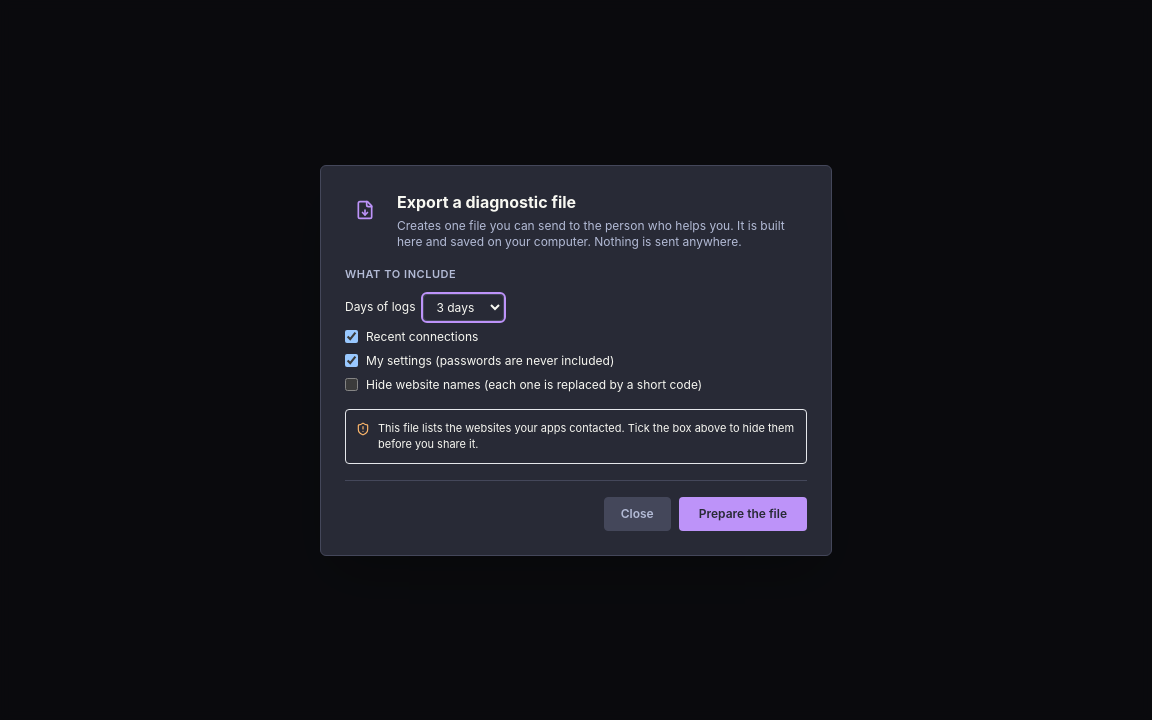
Test: DiagnosticExportModal › warns about visited sites, then shows the manifest with sizes before download
Expected: the text "This file lists the websites your apps contacted. Tick the box above to hide them before you share it." is shown, [378,420,794,451]
Expected: the button "Download the file" is not shown
Step 1. Click the button "Prepare the file" → point(743, 514), box [679,496,807,530]
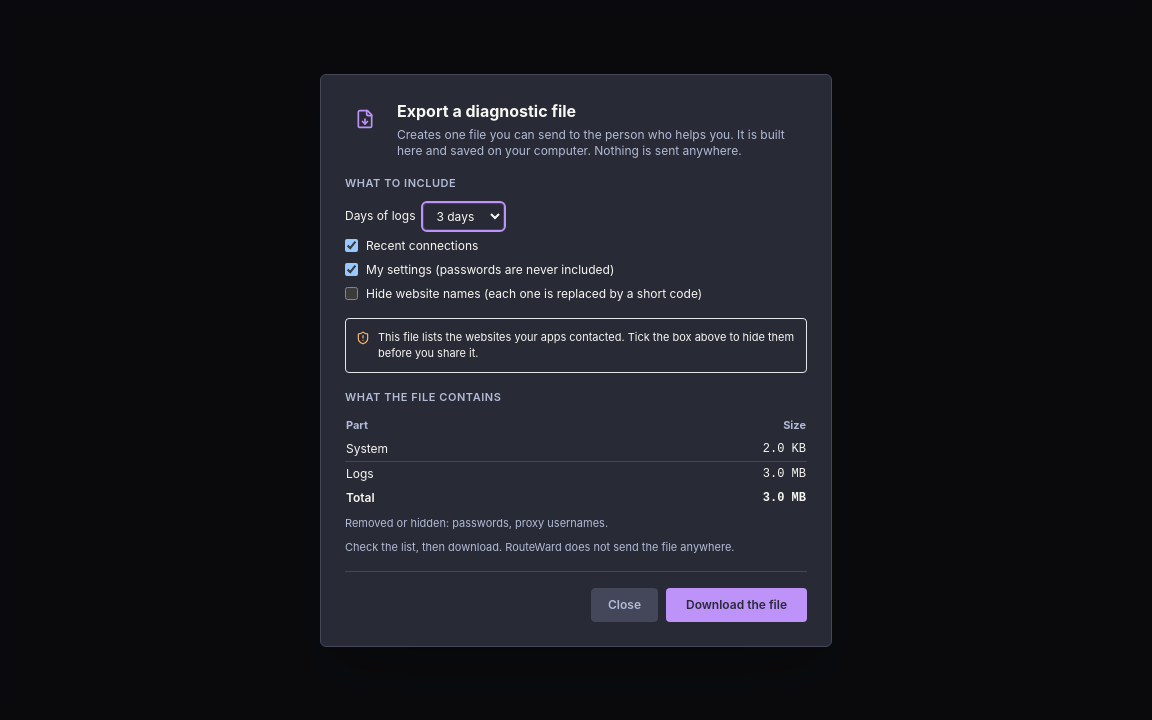
Result: the button "Download the file" is shown at [666,588,807,622]
Result: the text "System" is shown at [345,436,590,461]
Result: the text "Logs" is shown at [345,461,590,486]
